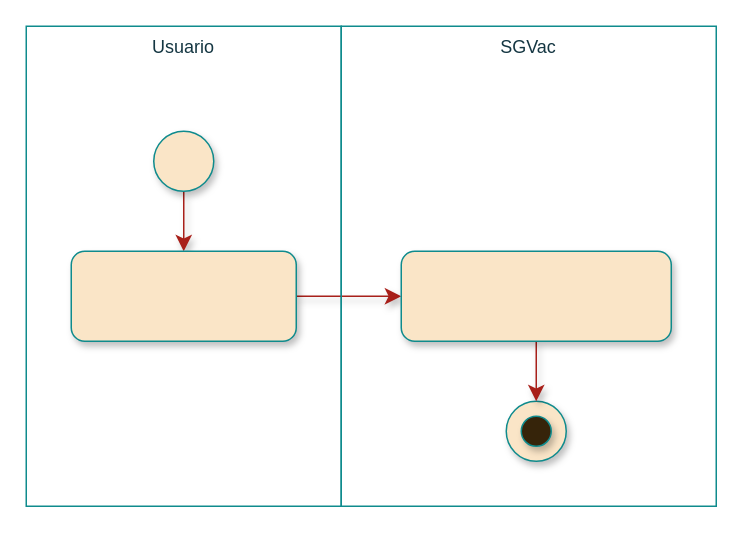
The diagram is 743 pixels wide and 533 high, and some of its shapes have lost their labels. Here are the shapes that lost their labels. From the top down, the centre of each, then its label:
[184,298]: Elige cerrar sesión
[537,298]: Cierra sesión y borra el token
